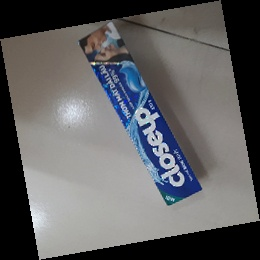CloseUp Tuyet: (78, 21, 203, 208)
